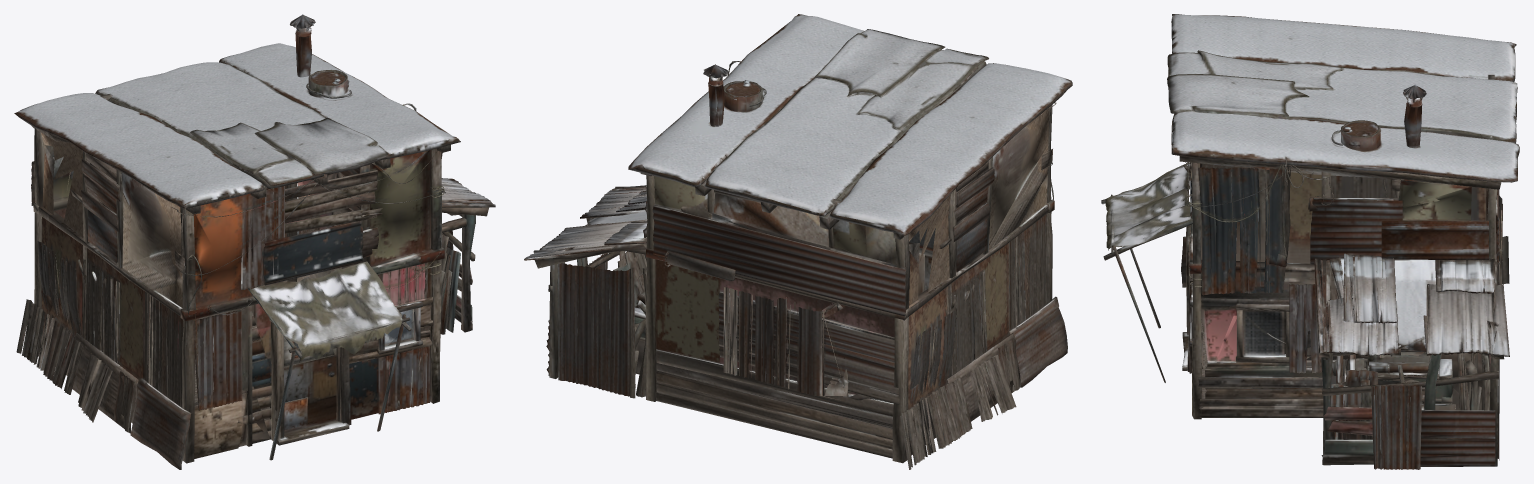
File: jt_scrap_house_b.glb
The picture shows the model from 3 angles, left to right: view 1: azimuth 30°, elevation 25°; view 2: azimuth 150°, elevation 25°; view 3: azimuth 270°, elevation 25°; orthographic projection.
Size of the model in its own units: 0.9531 by 0.7158 by 0.8442.
Materials: 1 (1 with a texture image).
